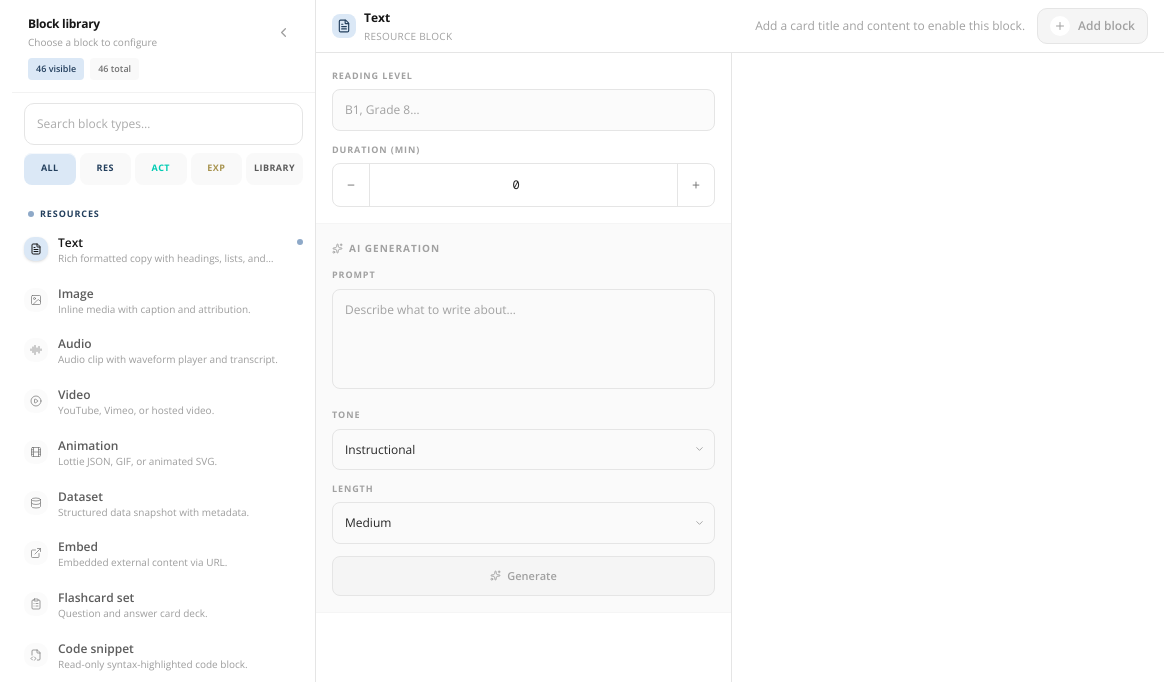
Test case: MakePanel integration › switches editor controls when card type changes
Expected: the field with placeholder "B1, Grade 8…" is shown, left=332, top=89, right=715, bottom=131
Click the button "Video YouTube, Vimeo, or hosted video.": (164, 403) left=12, top=377, right=315, bottom=428
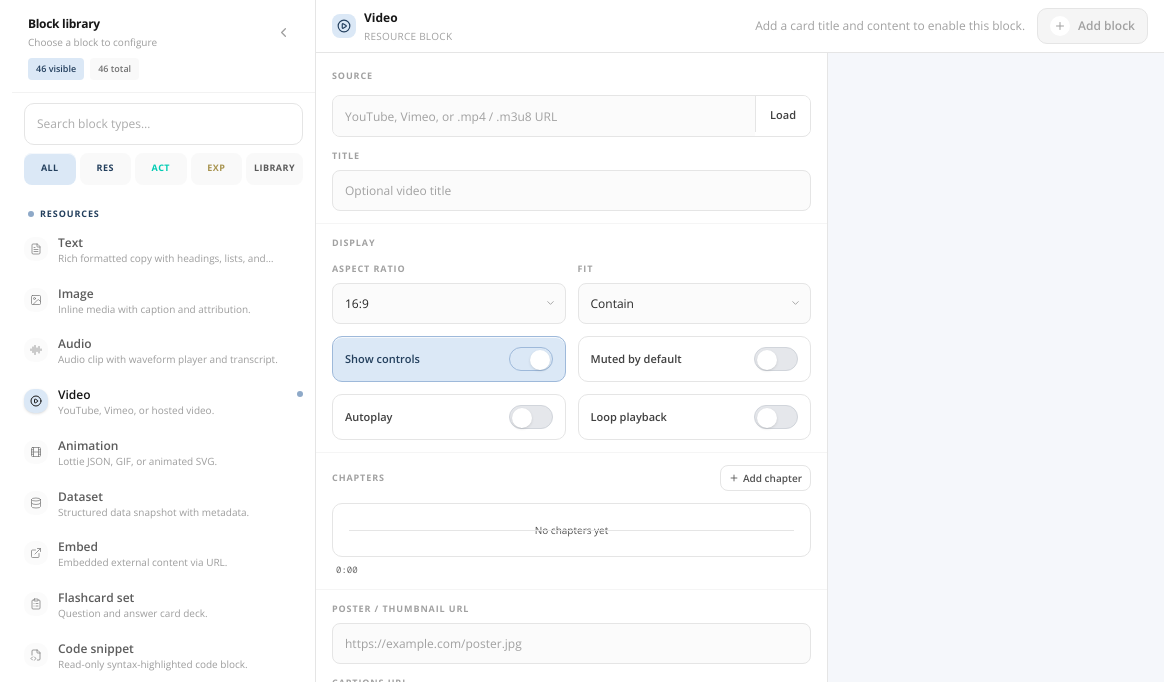
Expected: the field with placeholder "YouTube, Vimeo, or .mp4 / .m3u8 URL" is shown, left=333, top=96, right=755, bottom=136
